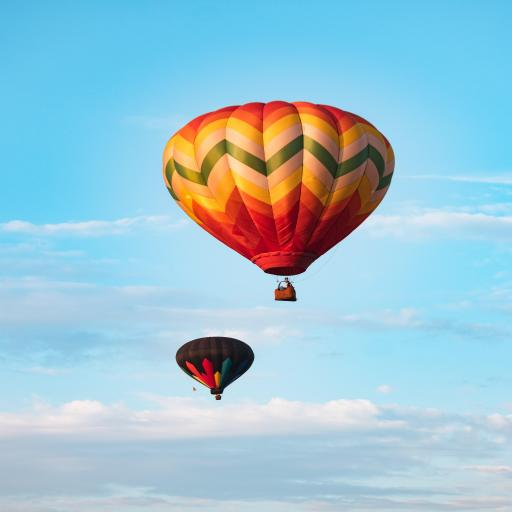hot air ballon: (159, 96, 398, 304), (173, 334, 262, 406)
